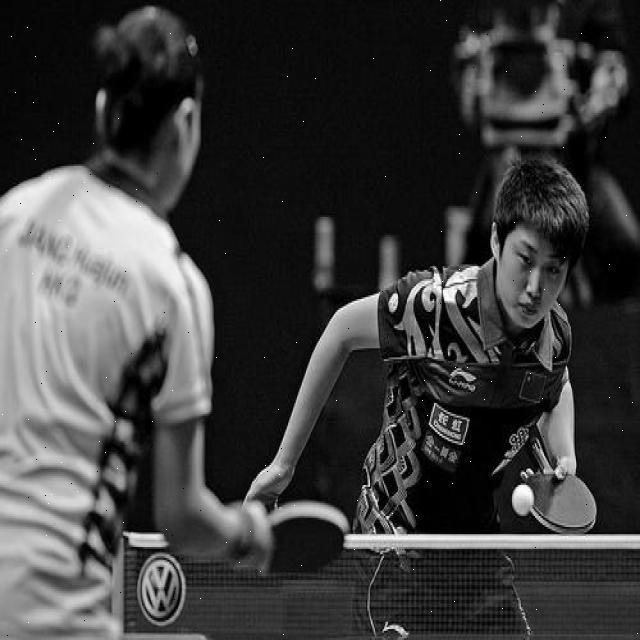ping-pong-ball: (511, 482, 535, 516)
